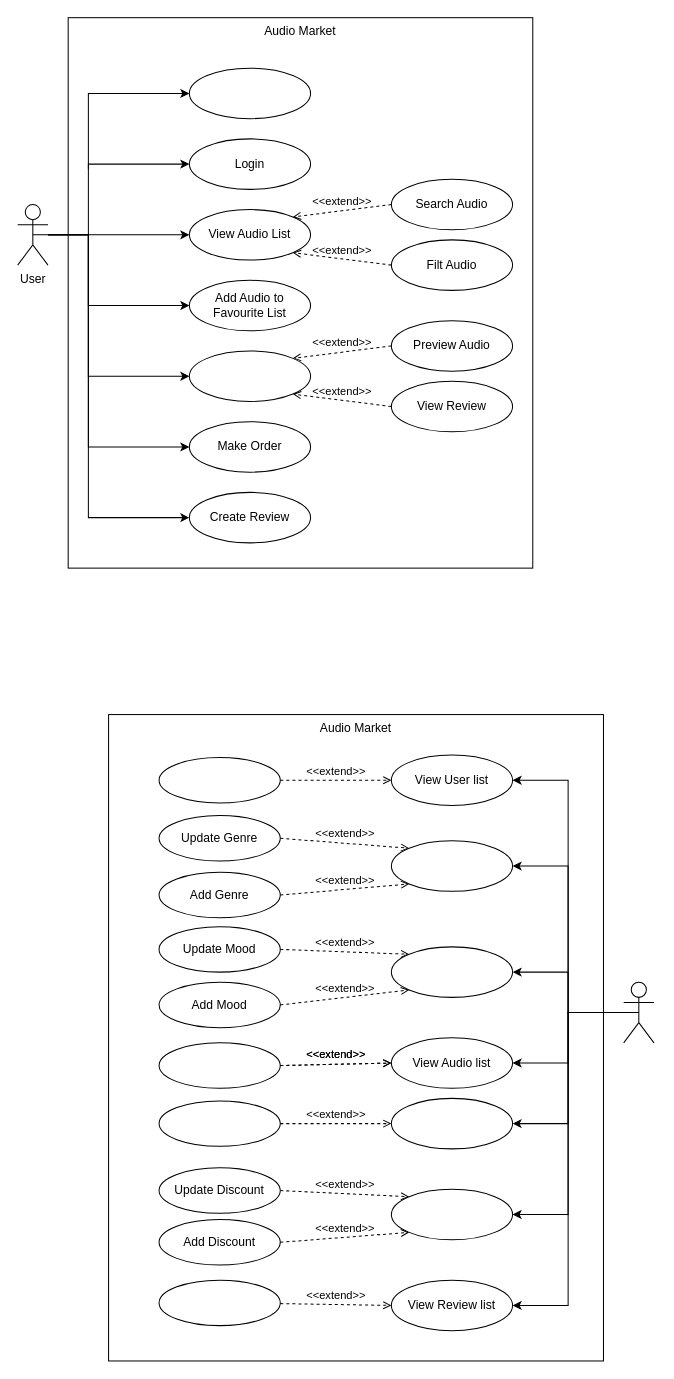
Some shapes in this 674 by 1379 pixel diagram are drawn without their labels. Here are the shapes that lost their labels. From the top down, the centre of each, then its label:
At (x=249, y=93): "Register Member".
At (x=249, y=375): "View Audio Detail".
At (x=219, y=779): "Update User".
At (x=451, y=865): "View Genre list".
At (x=451, y=971): "View Mood list".
At (x=638, y=1012): "Admin".
At (x=219, y=1065): "Update Audio".
At (x=219, y=1123): "Update Order".
At (x=451, y=1123): "View Order list".
At (x=451, y=1214): "View Discount list".
At (x=219, y=1302): "Remove Review".
